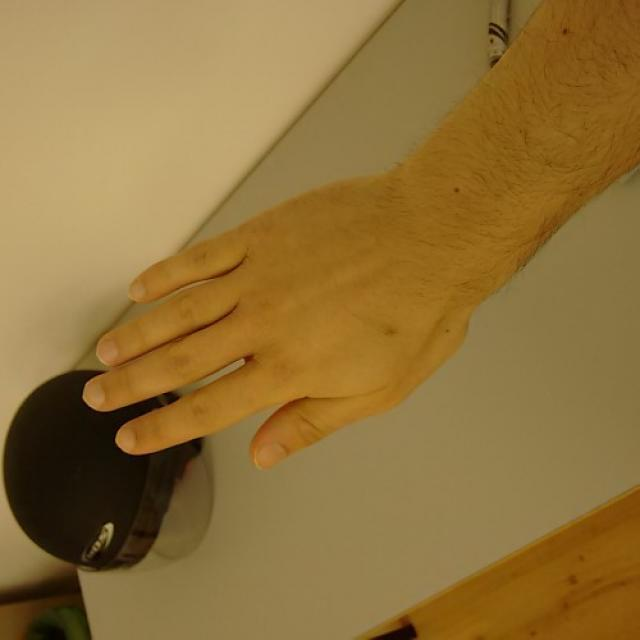paper: (82, 162, 404, 470)
